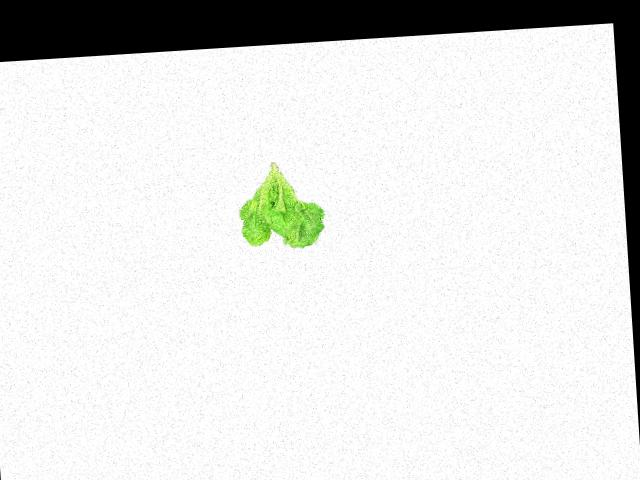lettuce: (232, 156, 331, 257)
